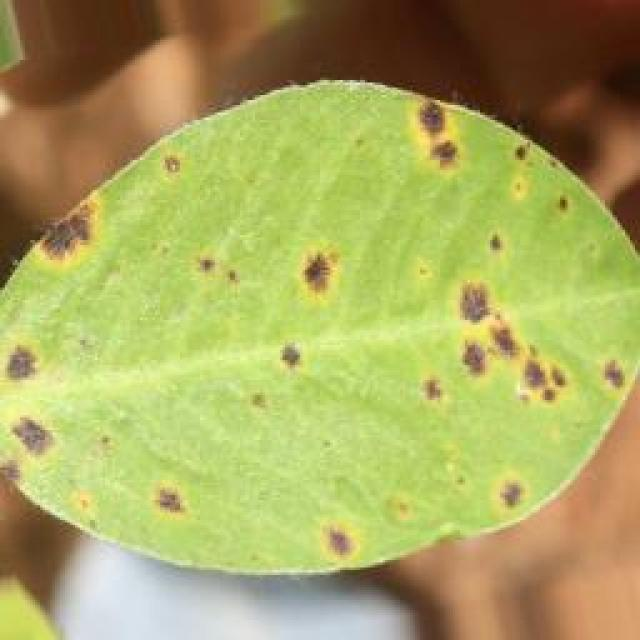Yellowish: (0, 98, 640, 575)
